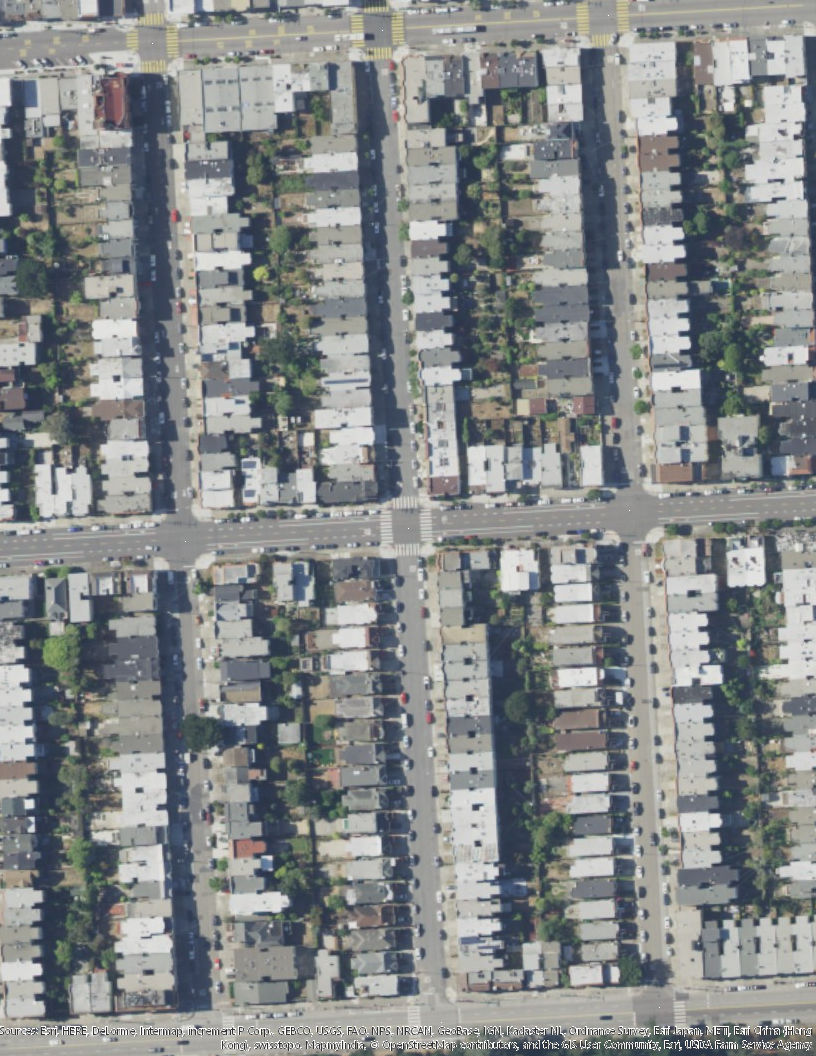zebracross: (673, 992, 688, 1029), (350, 12, 364, 46), (576, 2, 590, 35), (419, 509, 433, 541), (391, 12, 405, 44), (380, 512, 393, 545), (409, 1006, 421, 1041), (395, 541, 420, 557), (393, 496, 420, 510), (617, 1, 630, 30), (590, 34, 621, 45), (368, 46, 391, 59), (364, 1, 387, 13), (223, 1013, 235, 1027)
